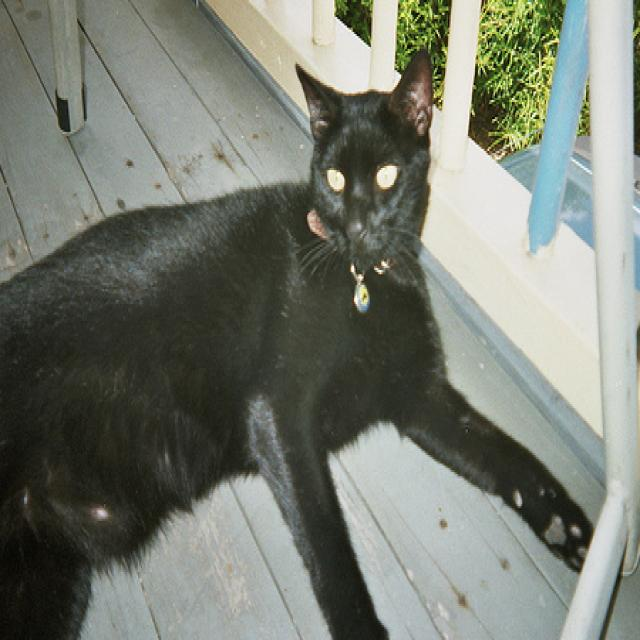Bombay: (0, 44, 596, 640)
